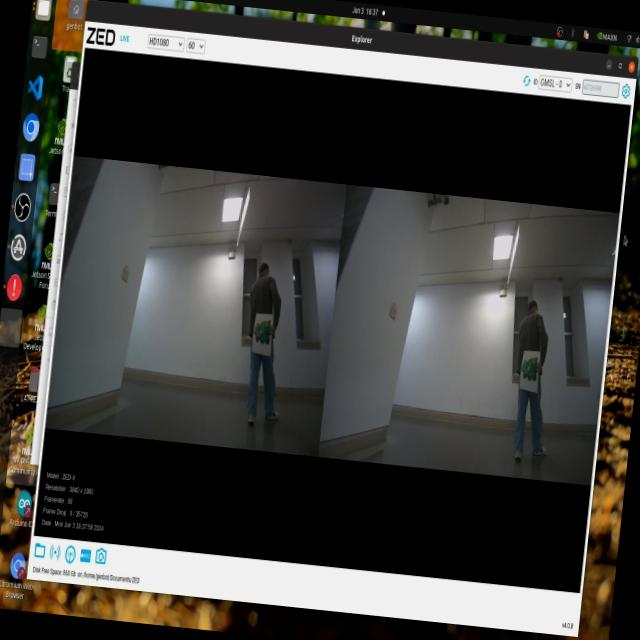green: (514, 342, 544, 384), (252, 313, 274, 348)
